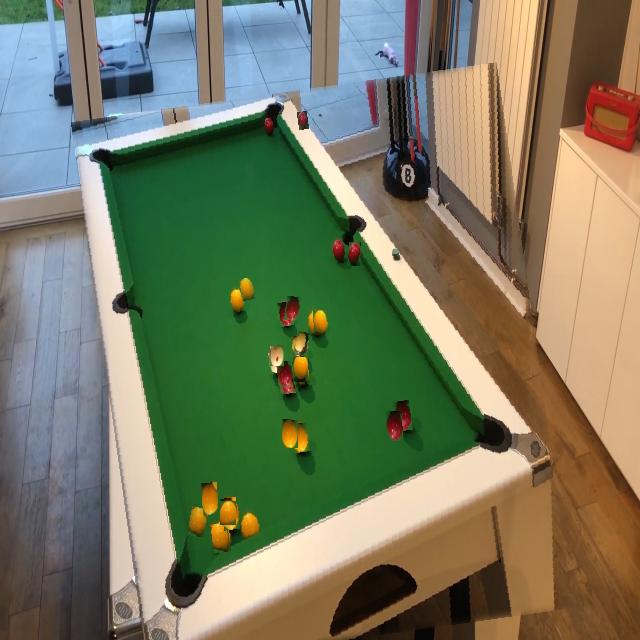Ball: (201, 483, 219, 515), (188, 507, 207, 536), (387, 411, 403, 441), (282, 419, 298, 448), (277, 362, 292, 388), (239, 277, 255, 301), (220, 501, 236, 525), (285, 297, 301, 321), (294, 332, 310, 356), (293, 358, 308, 383), (314, 310, 328, 334), (270, 345, 284, 366), (349, 242, 361, 266), (298, 112, 308, 130)
Billiard table: (88, 75, 555, 640)
